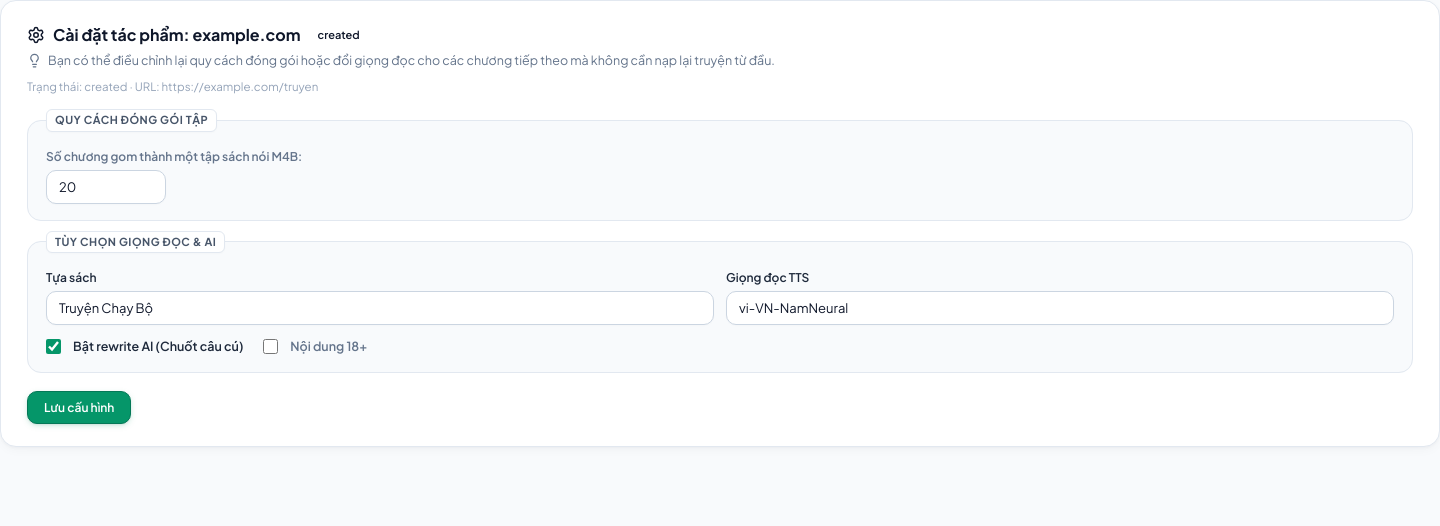
Test: JobDetail — phản ánh cấu hình ĐÃ PERSIST › sửa số chương → PATCH đúng shape → GET lại → UI HIỂN THỊ giá trị đã persist
Replace the text in the number field named "Chương mỗi sách (đã lưu)" with "50" at [106, 186], box 46,170 -> 166,204
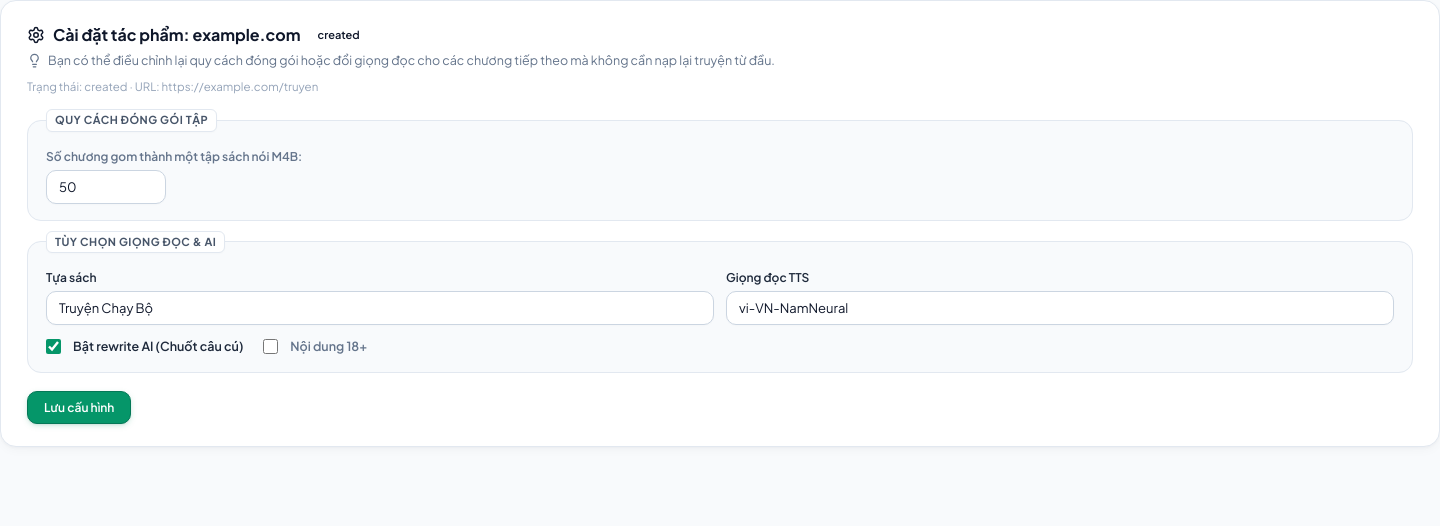
Click the button "Lưu cấu hình" at [79, 407], box 27,391 -> 131,424
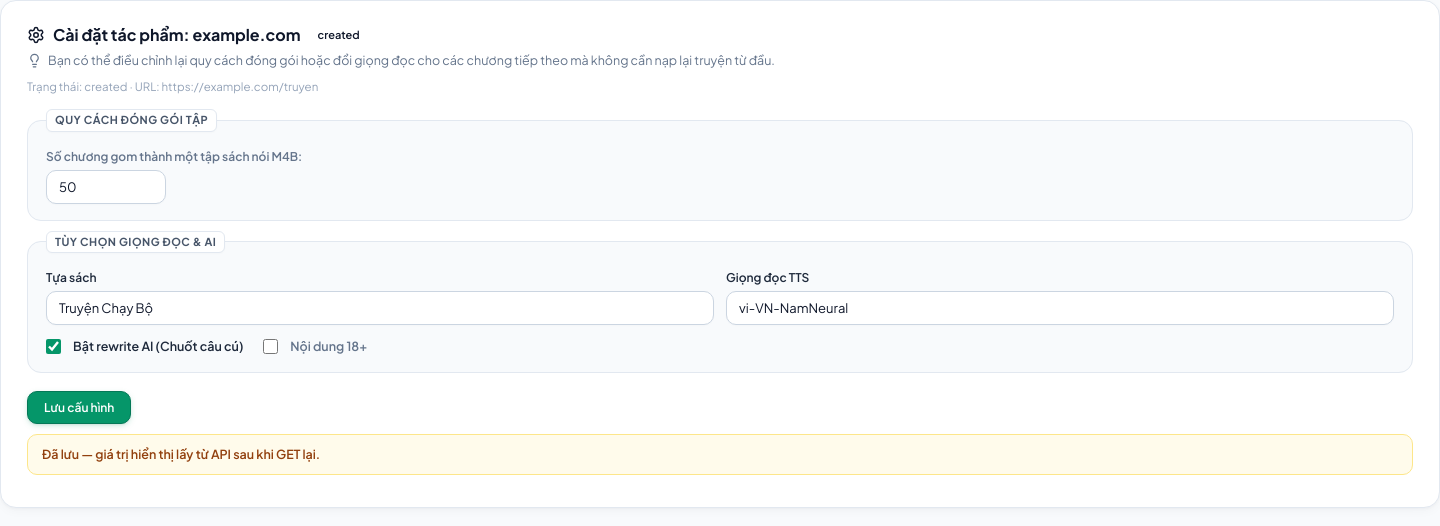
Expected: the number field named "Chương mỗi sách (đã lưu)" holds "50", 46,170 -> 166,204
Expected: the message shows "Đã lưu", 42,446 -> 320,462
